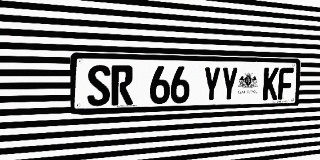6: (150, 66, 170, 104), (170, 66, 190, 103)
F: (278, 67, 294, 100)
K: (262, 67, 279, 100)
R: (111, 65, 133, 105)
S: (87, 65, 110, 106)
Y: (202, 66, 221, 102), (220, 67, 238, 102)
